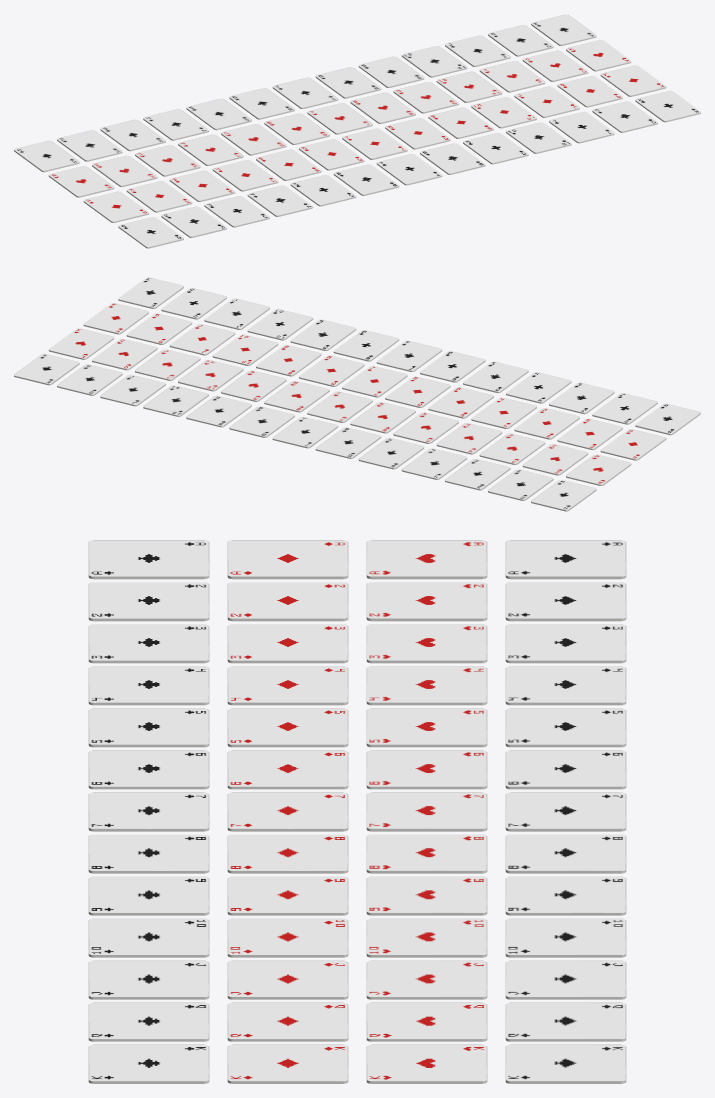
The model's file is deck.glb.
3 renders of one model, top to bottom at view 1: azimuth 30°, elevation 25°; view 2: azimuth 150°, elevation 25°; view 3: azimuth 270°, elevation 25°, orthographic. The views are drawn at different scales.
Parts seen in each view (by area): view 1: Card_A_spades, Card_5_spades, Card_8_spades, Card_10_hearts, Card_4_diamonds, Card_6_clubs, Card_9_clubs, Card_K_clubs, Card_3_spades, Card_6_spades, Card_9_hearts, Card_J_hearts (+40 smaller); view 2: Card_6_spades, Card_9_spades, Card_K_spades, Card_4_hearts, Card_10_diamonds, Card_A_clubs, Card_5_clubs, Card_8_clubs, Card_8_spades, Card_J_spades, Card_2_hearts, Card_3_hearts (+40 smaller); view 3: Card_3_spades, Card_6_spades, Card_7_spades, Card_8_spades, Card_J_spades, Card_3_hearts, Card_6_hearts, Card_7_hearts, Card_8_hearts, Card_J_hearts, Card_3_diamonds, Card_6_diamonds (+40 smaller).
Part boxes in pixels (<box>): Card_A_spades: <box>14,140,79,172</box>; Card_5_spades: <box>186,98,251,130</box>; Card_8_spades: <box>315,67,381,98</box>; Card_10_hearts: <box>436,71,502,102</box>; Card_4_diamonds: <box>212,160,278,191</box>; Card_6_clubs: <box>333,164,399,195</box>; Card_9_clubs: <box>463,132,528,164</box>; Card_K_clubs: <box>635,90,700,122</box>; Card_3_spades: <box>100,119,165,151</box>; Card_6_spades: <box>229,88,294,119</box>; Card_9_hearts: <box>393,82,458,113</box>; Card_J_hearts: <box>479,61,545,92</box>; Card_6_spades: <box>315,427,381,458</box>; Card_9_spades: <box>186,395,251,427</box>; Card_K_spades: <box>14,353,79,385</box>; Card_4_hearts: <box>436,423,502,454</box>; Card_10_diamonds: <box>212,334,278,365</box>; Card_A_clubs: <box>635,403,700,435</box>; Card_5_clubs: <box>463,361,528,393</box>; Card_8_clubs: <box>333,330,399,361</box>; Card_8_spades: <box>229,406,294,437</box>; Card_J_spades: <box>100,374,165,406</box>; Card_2_hearts: <box>522,444,588,475</box>; Card_3_hearts: <box>479,433,545,464</box>; Card_3_spades: <box>505,624,626,663</box>; Card_6_spades: <box>505,750,626,789</box>; Card_7_spades: <box>505,792,626,831</box>; Card_8_spades: <box>505,834,626,873</box>; Card_J_spades: <box>505,960,626,999</box>; Card_3_hearts: <box>366,624,487,663</box>; Card_6_hearts: <box>366,750,487,789</box>; Card_7_hearts: <box>366,792,487,831</box>; Card_8_hearts: <box>366,834,487,873</box>; Card_J_hearts: <box>366,960,487,999</box>; Card_3_diamonds: <box>227,624,348,663</box>; Card_6_diamonds: <box>227,750,348,789</box>.
Size of the model in its own units: 9.32 by 0.02 by 3.92.
Materials: 156 (104 with a texture image).
